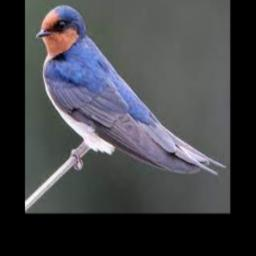Swallow: (37, 5, 226, 175)
